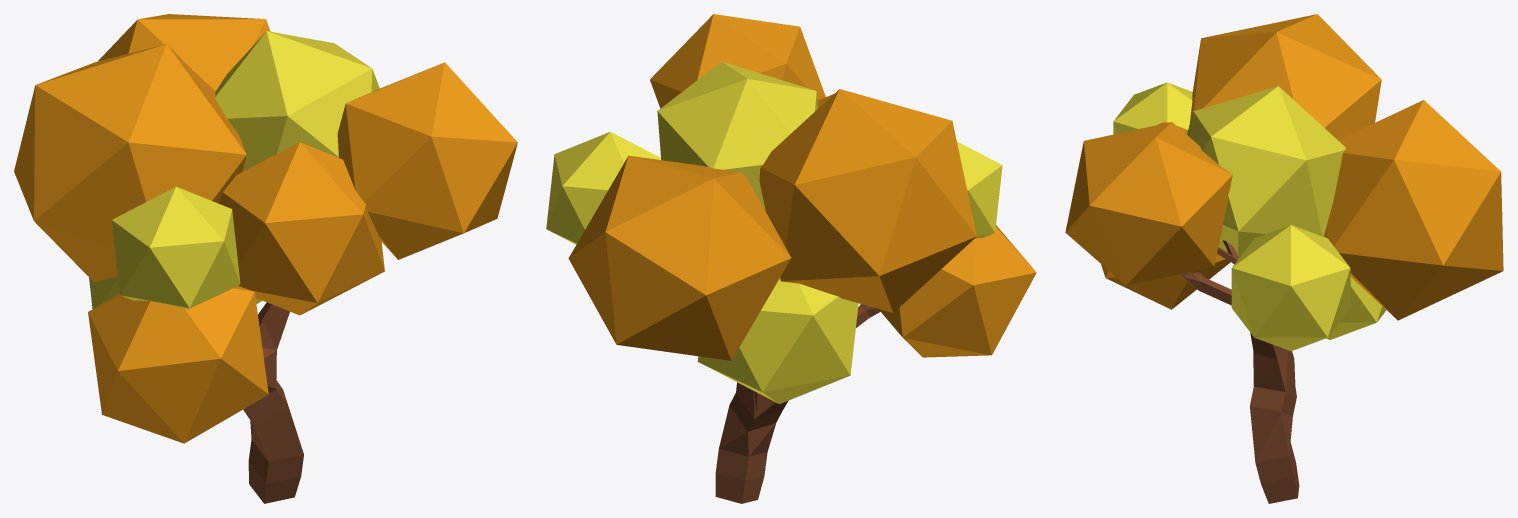
The model's file is Tree1.6.fbx.
3 renders of one model, left to right at view 1: azimuth 30°, elevation 25°; view 2: azimuth 150°, elevation 25°; view 3: azimuth 270°, elevation 25°, orthographic. The views are drawn at different scales.
Visible parts, largest first — view 1: Trunck Tree1.6; view 2: Trunck Tree1.6; view 3: Trunck Tree1.6.
Part boxes in pixels (x1,y1,x2,y2): Trunck Tree1.6: (14, 14, 517, 503); Trunck Tree1.6: (546, 14, 1036, 503); Trunck Tree1.6: (1065, 14, 1503, 503).
Bounding box in the file's own units: 1497 × 1528 × 1447.
